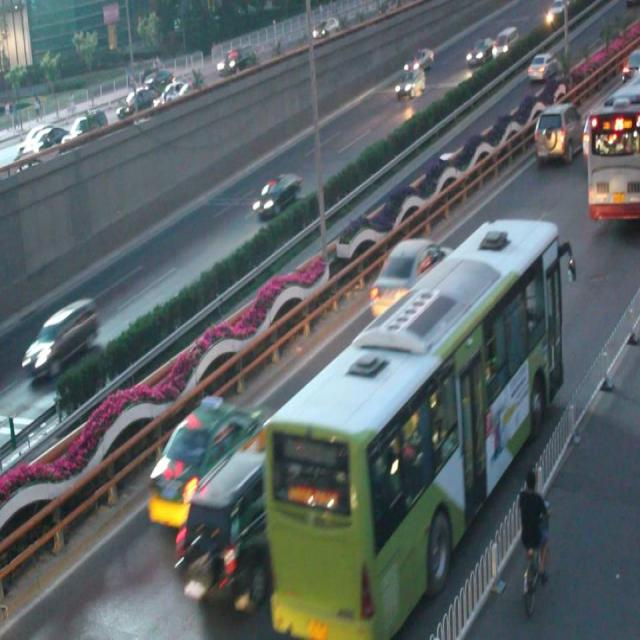car: (175, 449, 324, 612), (148, 396, 259, 524), (371, 238, 449, 317), (531, 102, 579, 158), (250, 170, 302, 220), (428, 153, 475, 200), (397, 44, 434, 73), (393, 68, 426, 100)
truck: (21, 297, 100, 376)
van: (262, 222, 564, 632), (583, 94, 640, 212)
